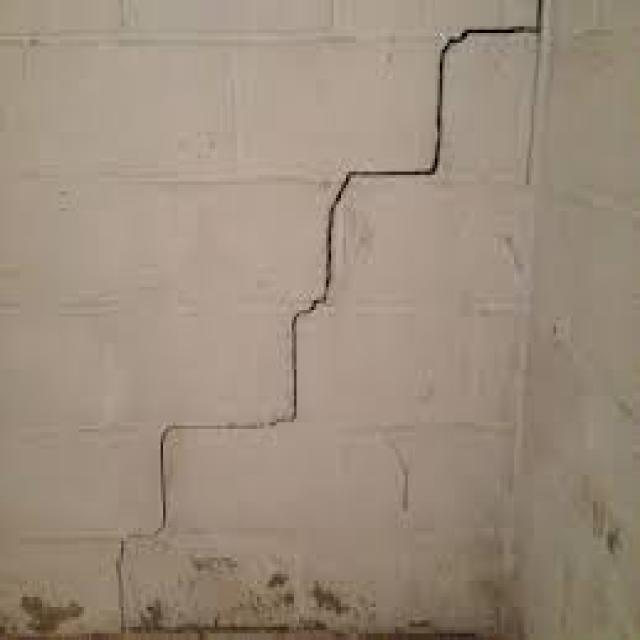Crack: (111, 0, 539, 637)
